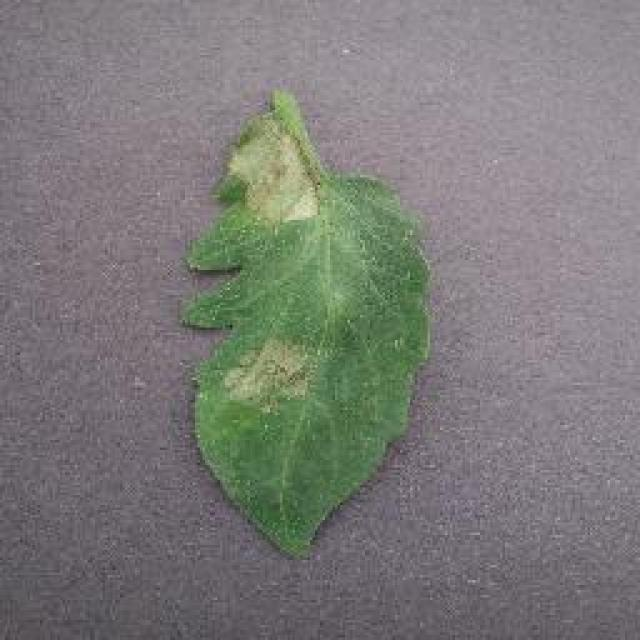Tomato late blight leaf: (180, 105, 430, 562)
